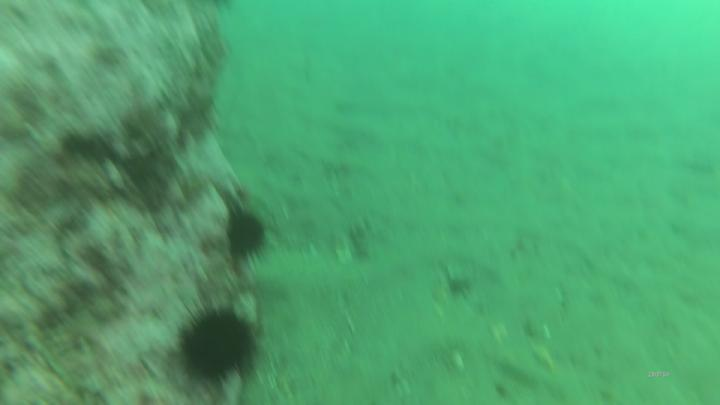echinus: (185, 307, 257, 388), (229, 208, 269, 264)
